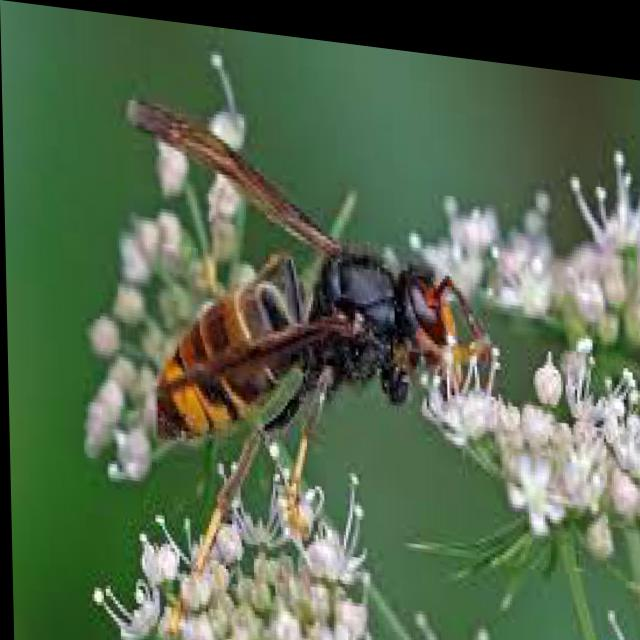Vespa Velutina: (116, 80, 504, 604)
